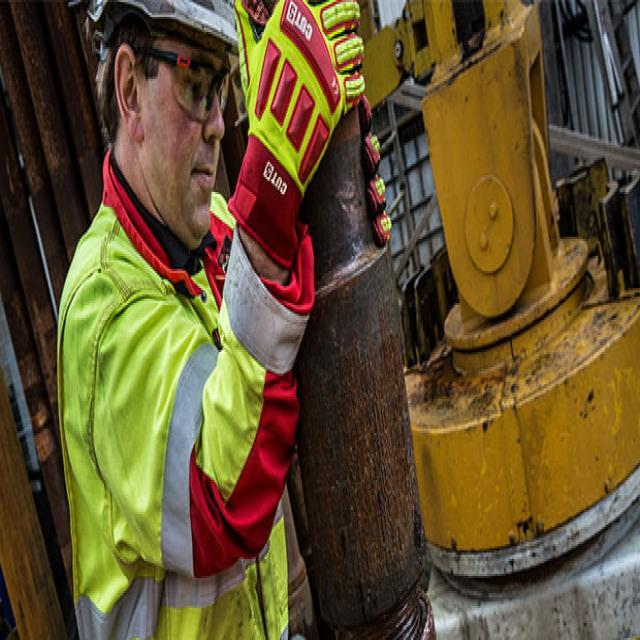Goggles: (124, 42, 233, 126)
gloves: (226, 0, 368, 268), (362, 88, 393, 260)
